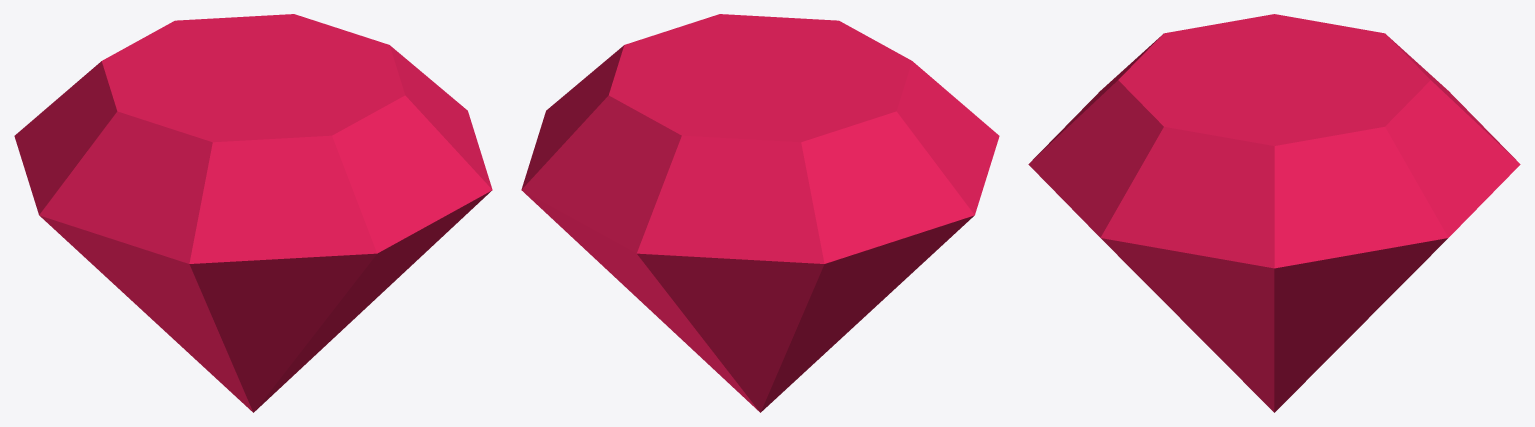
Rendered from Diamond2.fbx.
3 views of the same model, side by side, from view 1: azimuth 30°, elevation 25°; view 2: azimuth 150°, elevation 25°; view 3: azimuth 270°, elevation 25° (orthographic).
Visible parts, largest first — view 1: Cone; view 2: Cone; view 3: Cone.
Boxes of the visible parts, box(x1,y1,x2,y2) form: Cone: box(14, 14, 492, 412); Cone: box(521, 14, 999, 412); Cone: box(1028, 14, 1520, 412).
Bounding box in the file's own units: 91.78 × 68.48 × 91.78.
